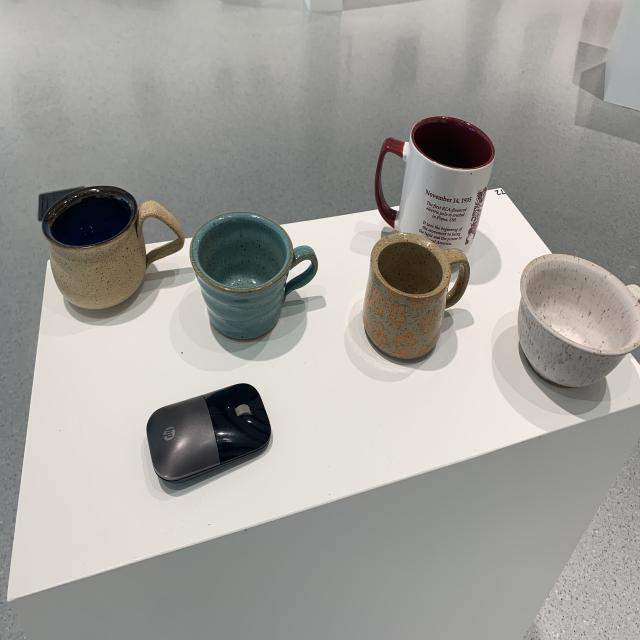Cup: (29, 180, 188, 321), (368, 114, 494, 266), (518, 248, 640, 402), (191, 209, 319, 342), (370, 229, 468, 367)
Mouse: (132, 374, 278, 498)
